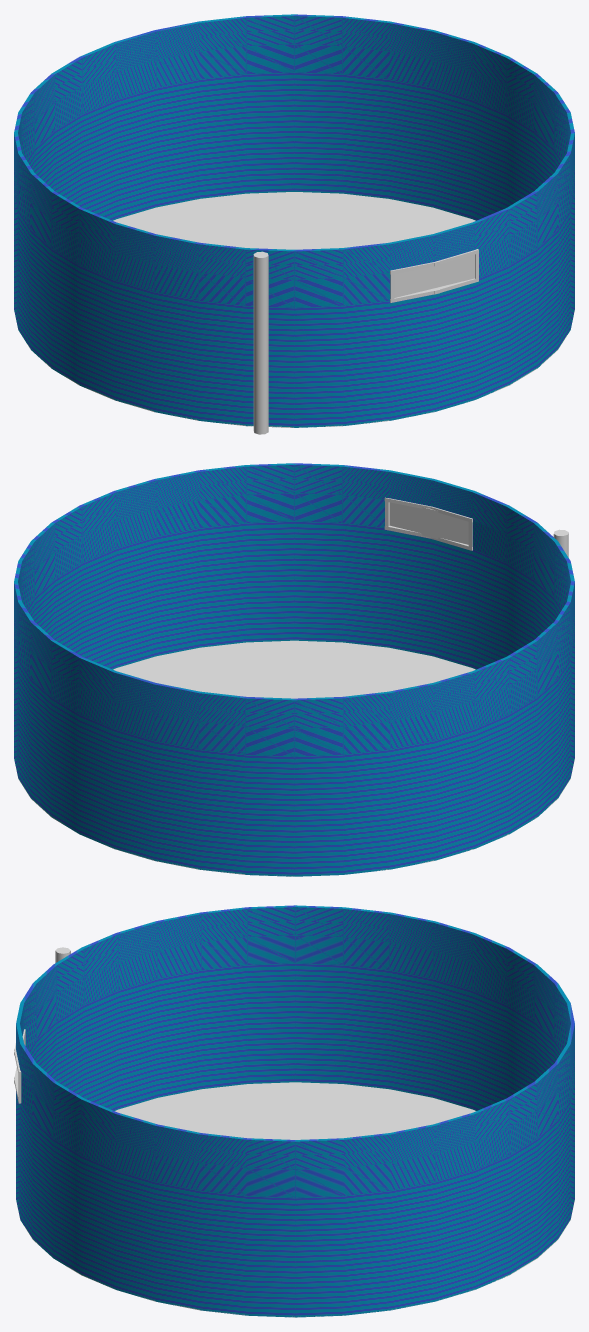
File: fish.fbx
3 views of the same model, one above another, from view 1: azimuth 30°, elevation 25°; view 2: azimuth 150°, elevation 25°; view 3: azimuth 270°, elevation 25° (orthographic).
Visible parts, largest first — view 1: main-frame0, main-frame2, main-frame1, plane, pipe, window-glass002; view 2: main-frame0, main-frame2, main-frame1, plane, window-glass002; view 3: main-frame0, main-frame2, main-frame1, plane.
Boxes of the visible parts, bbox=[...] form: main-frame0: bbox=[14, 72, 574, 427]; main-frame2: bbox=[14, 14, 574, 279]; main-frame1: bbox=[14, 44, 574, 307]; plane: bbox=[18, 192, 574, 427]; pipe: bbox=[253, 251, 268, 434]; window-glass002: bbox=[394, 254, 474, 297]; main-frame0: bbox=[14, 521, 574, 876]; main-frame2: bbox=[14, 463, 574, 728]; main-frame1: bbox=[14, 493, 574, 756]; plane: bbox=[15, 640, 574, 876]; window-glass002: bbox=[390, 502, 468, 544]; main-frame0: bbox=[16, 963, 574, 1317]; main-frame2: bbox=[16, 905, 574, 1169]; main-frame1: bbox=[21, 935, 574, 1197]; plane: bbox=[18, 1082, 574, 1317].
Bounding box in the file's own units: 2.83 × 0.9843 × 2.84.
Materials: 1 (1 with a texture image).
